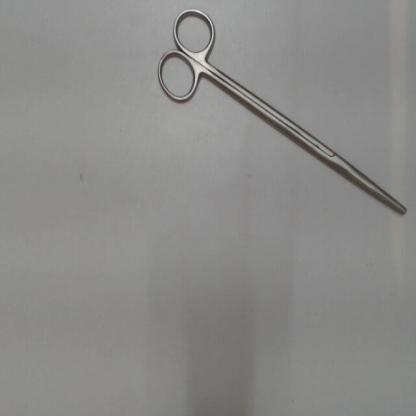9 Metzenbaum Scissors: (149, 2, 410, 222)
